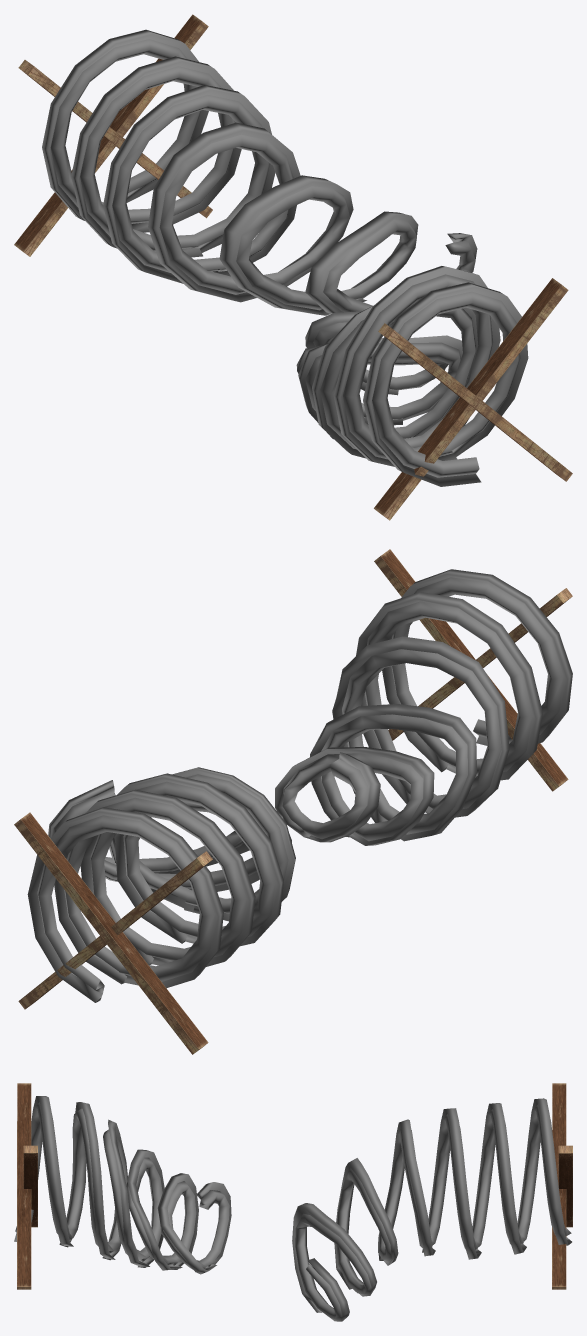
The model's file is Sandbags_Wire_Damaged.fbx.
The picture shows the model from 3 angles, top to bottom: view 1: azimuth 30°, elevation 25°; view 2: azimuth 150°, elevation 25°; view 3: azimuth 270°, elevation 25°; orthographic projection. The views are drawn at different scales.
Parts seen in each view (by area): view 1: Sandbags_Wire_Damaged; view 2: Sandbags_Wire_Damaged; view 3: Sandbags_Wire_Damaged.
Boxes of the visible parts, bbox=[...] form: Sandbags_Wire_Damaged: bbox=[14, 14, 572, 520]; Sandbags_Wire_Damaged: bbox=[14, 549, 572, 1054]; Sandbags_Wire_Damaged: bbox=[14, 1083, 572, 1321].
Bounding box in the file's own units: 290 × 188 × 598.
